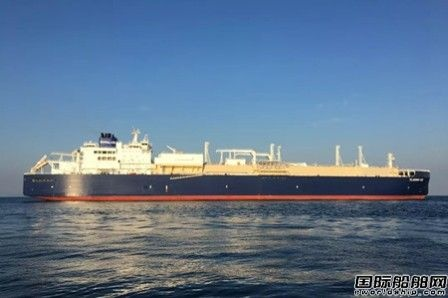Cargoship: (24, 126, 430, 203)
